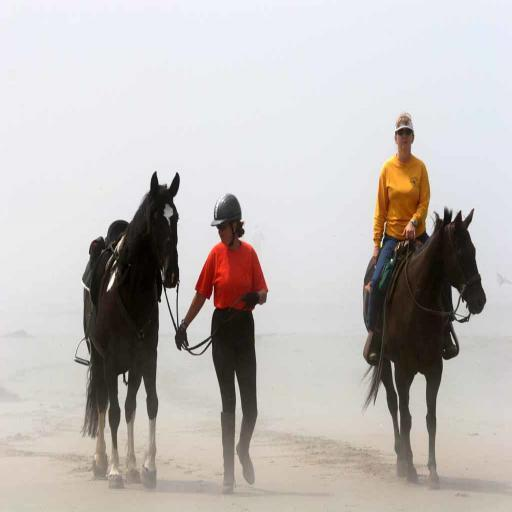horse: (359, 206, 487, 494), (80, 170, 182, 491)
